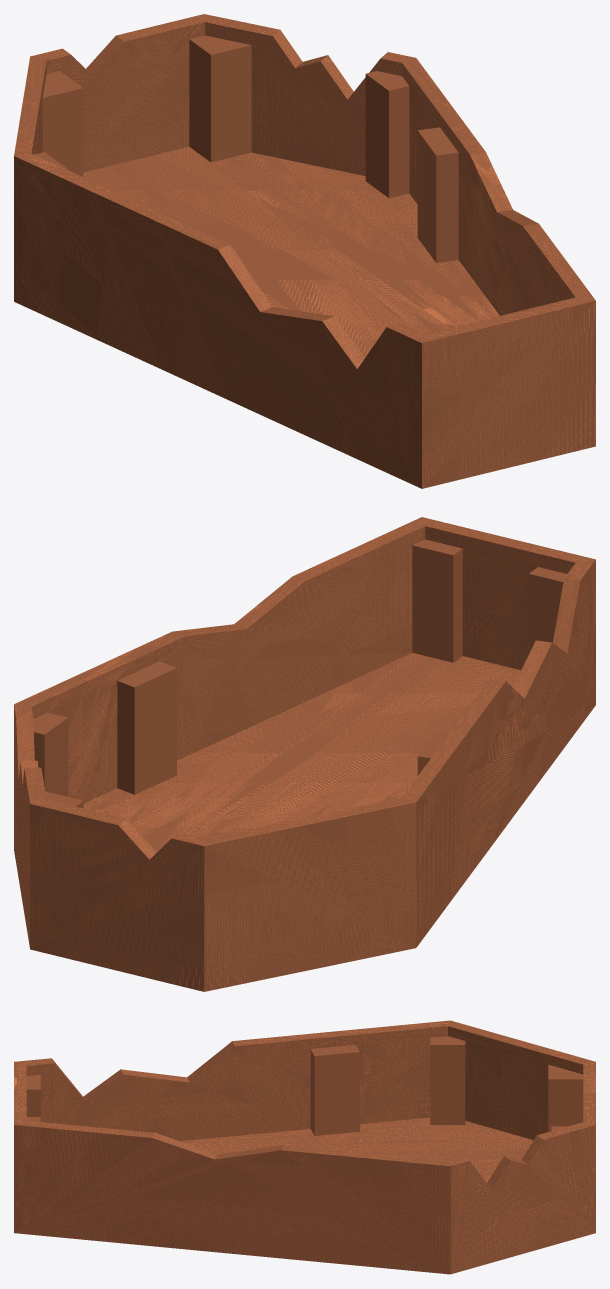
File: coffinOld.dae
3 views of the same model, one above another, from view 1: azimuth 30°, elevation 25°; view 2: azimuth 150°, elevation 25°; view 3: azimuth 270°, elevation 25° (orthographic). The views are drawn at different scales.
Parts seen in each view (by area): view 1: coffinOld; view 2: coffinOld; view 3: coffinOld.
Part boxes in pixels (x1,y1,x2,y2): coffinOld: [14, 14, 595, 488]; coffinOld: [14, 517, 595, 991]; coffinOld: [14, 1020, 595, 1274].
Size of the model in its own units: 0.5928 by 0.2052 by 1.
